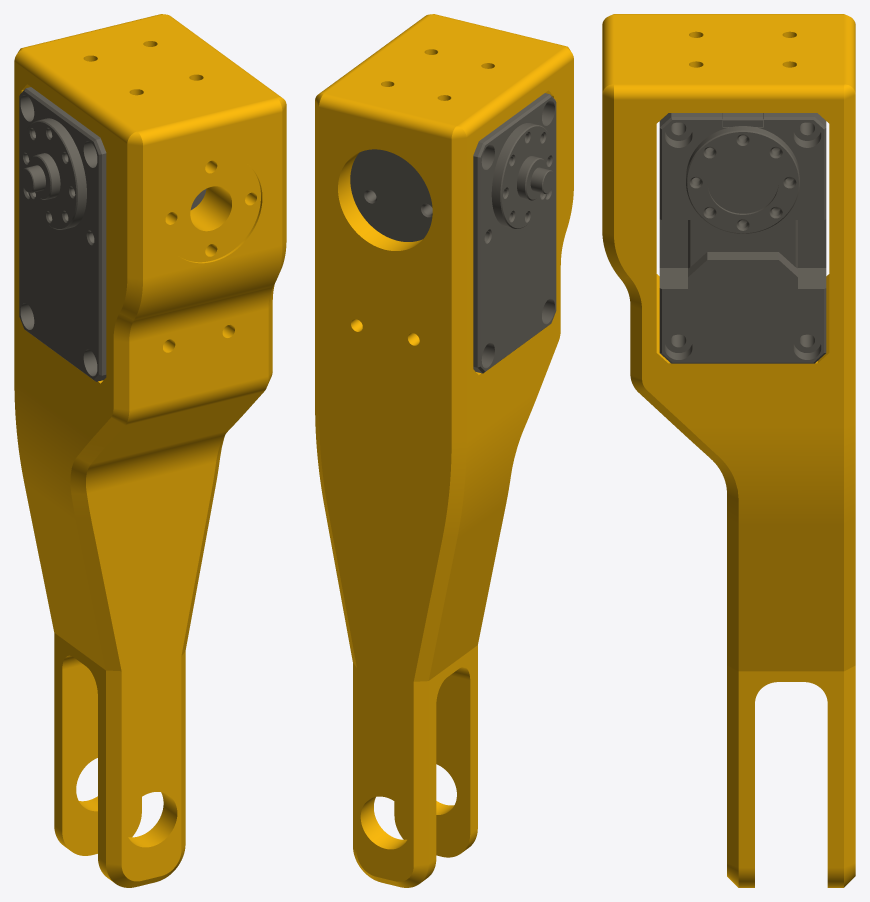
Rendered from left_femur.dae.
3 views of the same model, side by side, from view 1: azimuth 30°, elevation 25°; view 2: azimuth 150°, elevation 25°; view 3: azimuth 270°, elevation 25° (orthographic). The views are drawn at different scales.
Visible parts, largest first — view 1: Part 1, DUMMY_DC12; view 2: Part 1, DUMMY_DC12; view 3: Part 1, DUMMY_DC12.
Part boxes in pixels (<box>): Part 1: <box>14,14,286,887</box>; DUMMY_DC12: <box>19,87,206,381</box>; Part 1: <box>315,14,573,887</box>; DUMMY_DC12: <box>350,93,556,373</box>; Part 1: <box>602,14,855,887</box>; DUMMY_DC12: <box>659,113,826,363</box>.
Bounding box in the file's own units: 0.0424 × 0.0433 × 0.1565.
